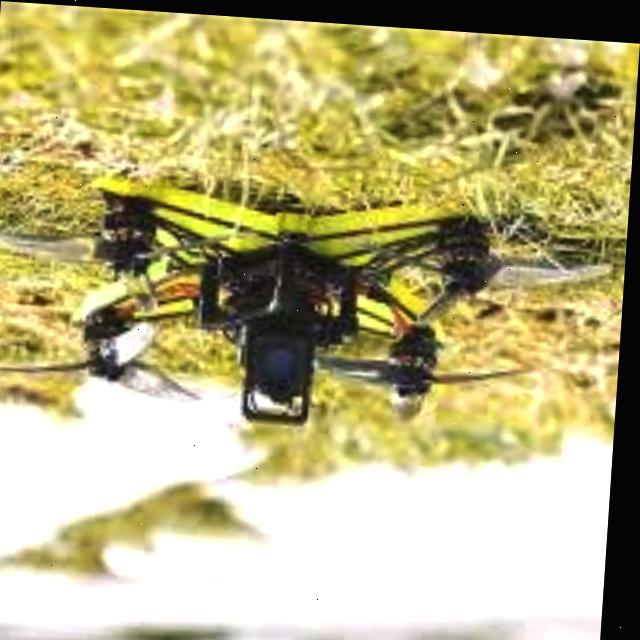drone: (0, 137, 633, 433)
